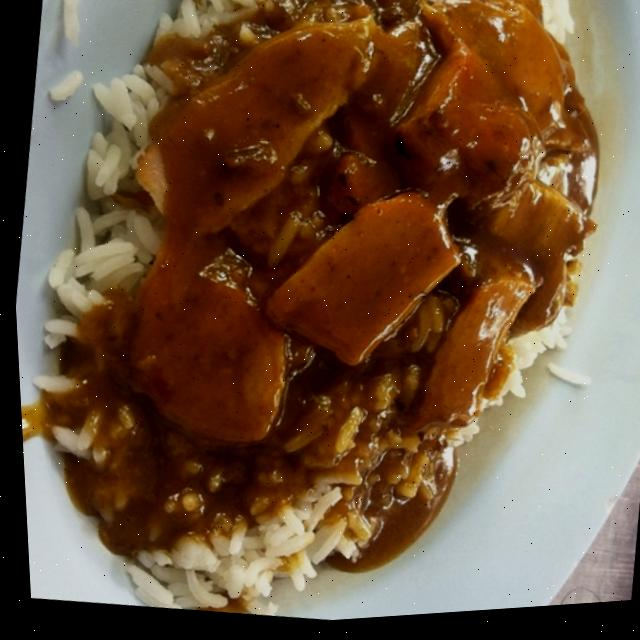猪肉菜式: (5, 0, 640, 636)
